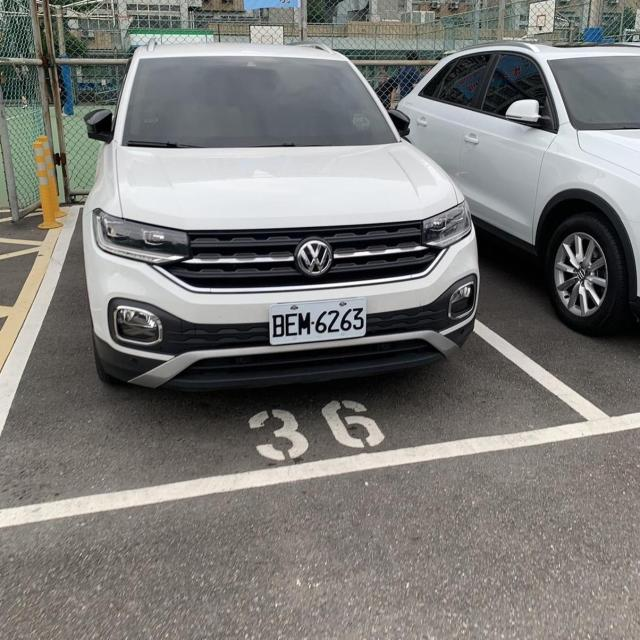W: (266, 291, 372, 348)
